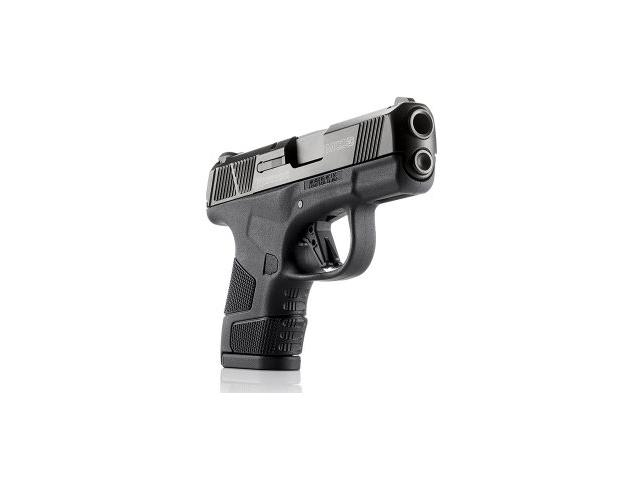pistol: (206, 96, 441, 373)
